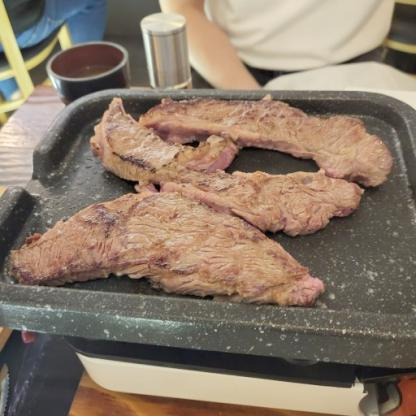Carne: (7, 187, 332, 290), (125, 95, 392, 173), (159, 167, 371, 220), (80, 112, 222, 178)
